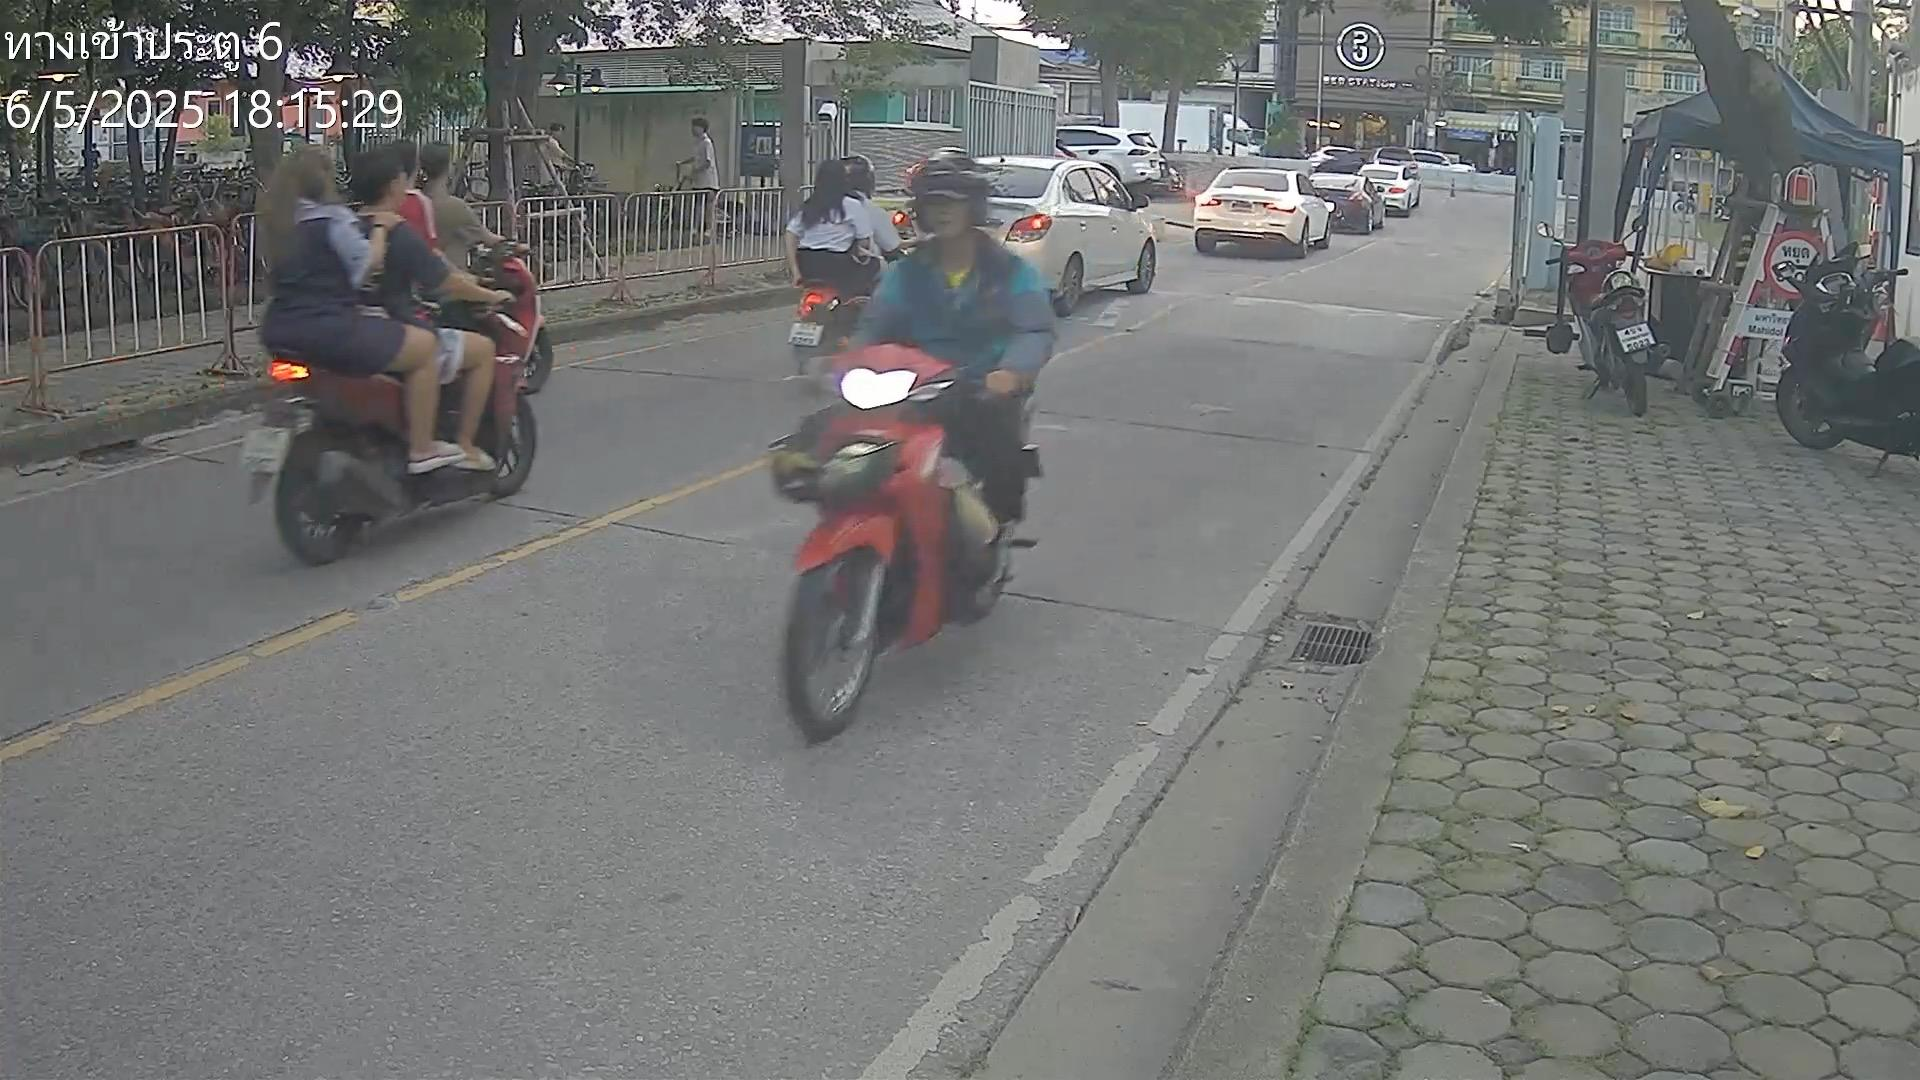With-Helmet: (905, 146, 990, 237)
